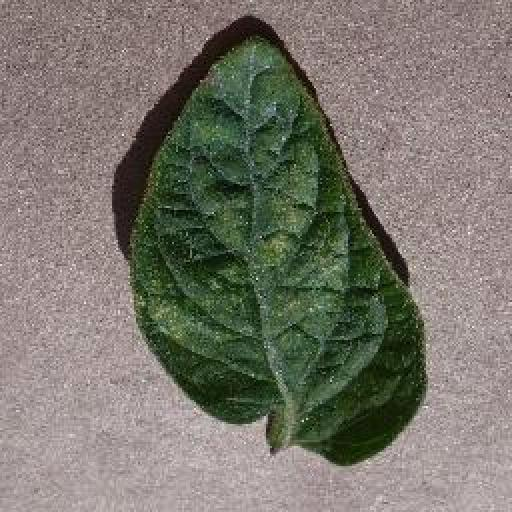disease_tomato: (126, 34, 428, 466)
